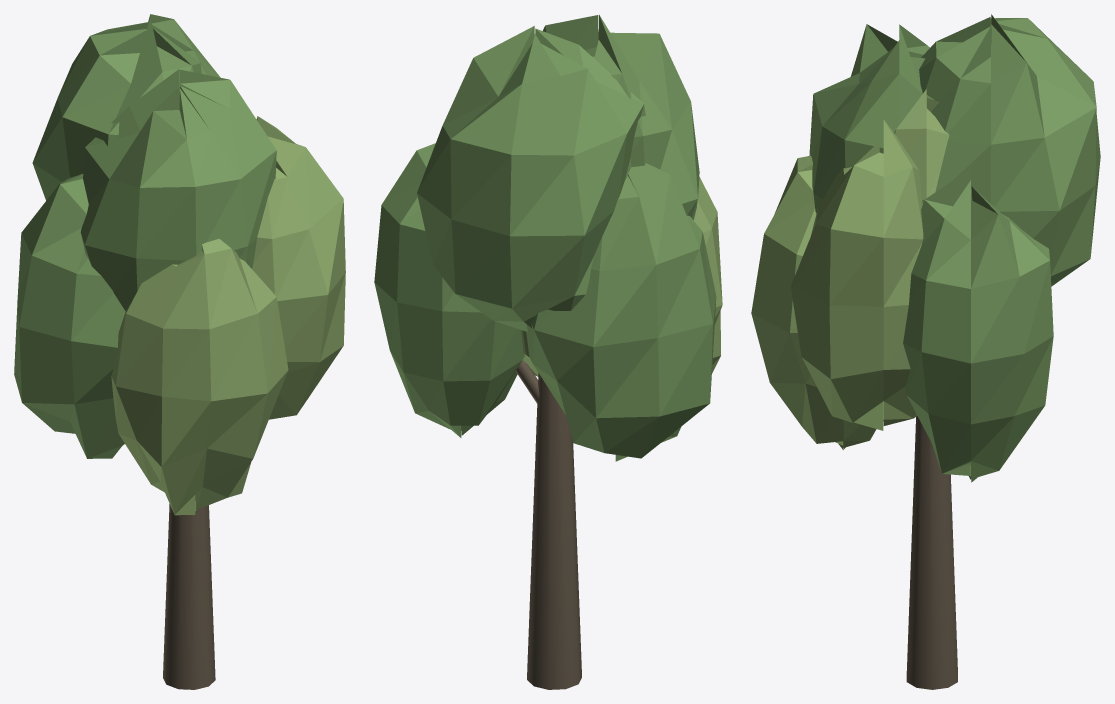
The model's file is ornamental_tree_variant_03.glb.
3 views of the same model, side by side, from view 1: azimuth 30°, elevation 25°; view 2: azimuth 150°, elevation 25°; view 3: azimuth 270°, elevation 25° (orthographic). The views are drawn at different scales.
Parts seen in each view (by area): view 1: static_leaf_oak, static_leaf_light, static_bark; view 2: static_leaf_oak, static_bark, static_leaf_light; view 3: static_leaf_oak, static_leaf_light, static_bark.
Boxes of the visible parts, bbox=[...] form: static_leaf_oak: bbox=[14, 14, 276, 458]; static_leaf_light: bbox=[111, 116, 345, 515]; static_bark: bbox=[163, 504, 215, 689]; static_leaf_oak: bbox=[374, 14, 716, 461]; static_bark: bbox=[515, 360, 581, 689]; static_leaf_light: bbox=[521, 176, 722, 376]; static_leaf_oak: bbox=[809, 14, 1100, 482]; static_leaf_light: bbox=[751, 89, 949, 449]; static_bark: bbox=[906, 416, 957, 689].
Size of the model in its own units: 2.67 by 5.38 by 2.58.
